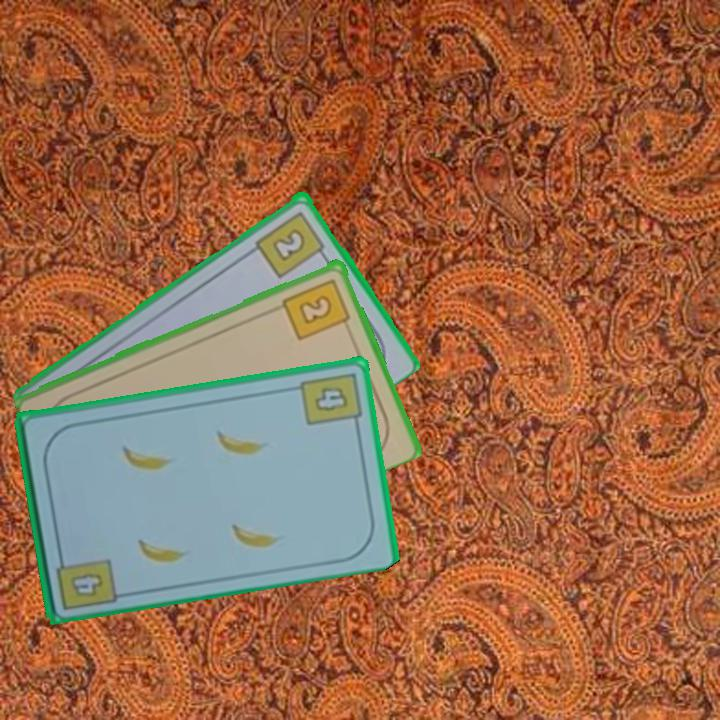2b: (252, 207, 330, 281), (279, 275, 354, 342)
4b: (52, 547, 119, 613), (297, 369, 364, 431)
